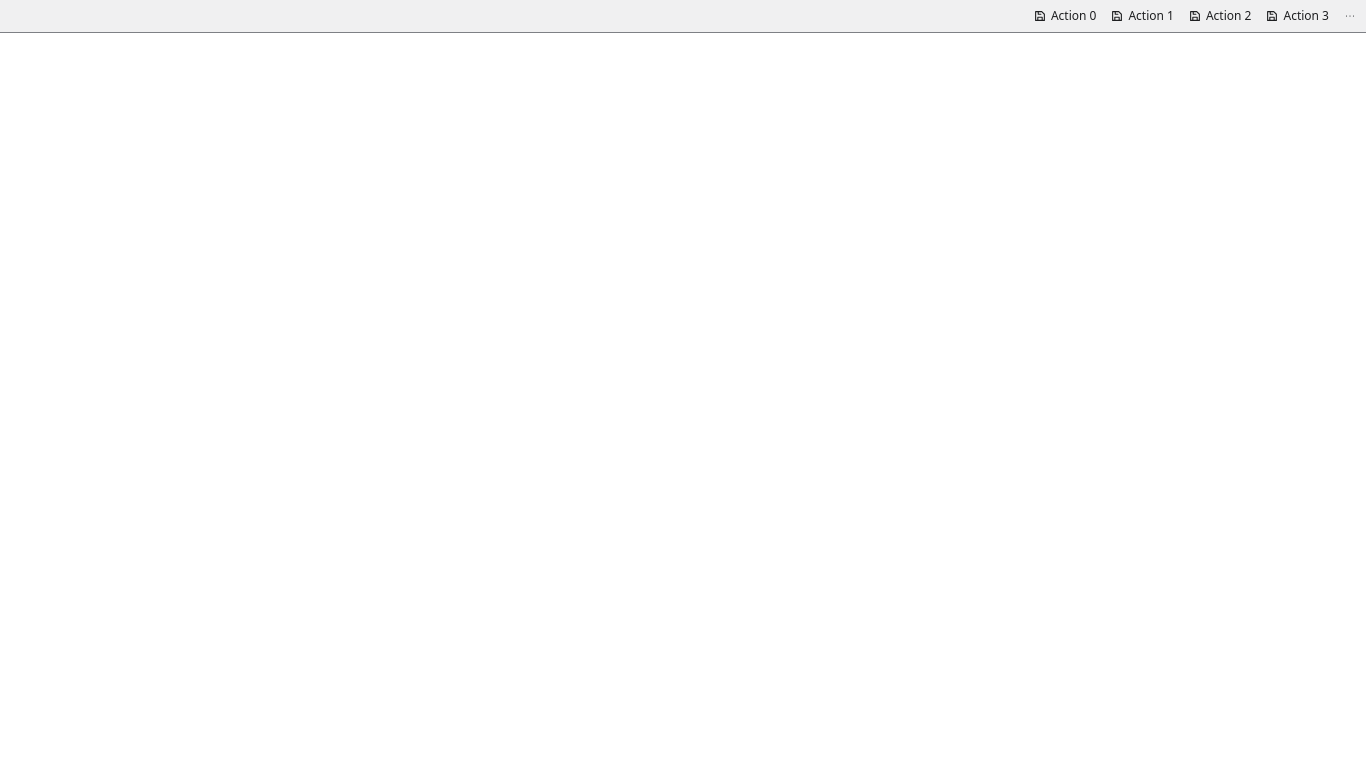
ContextBar — the overflow menu keyboard model › closes when the pointer goes down outside it
Click the button named "More actions": (1350, 16) [1338,4,1362,28]
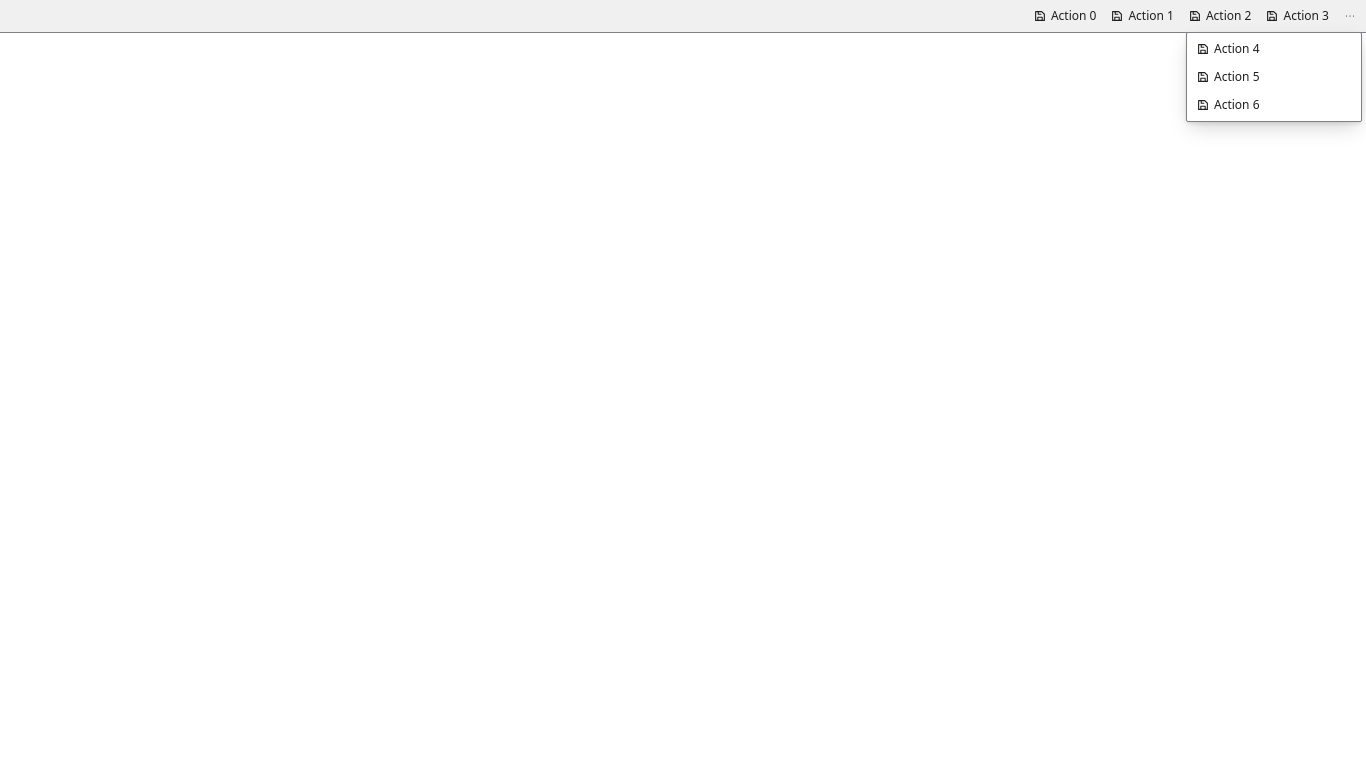
Expected: the menu is shown, [1186,32,1362,122]
Click the element that starts with "Action 0": (683, 384) [0,0,1365,767]
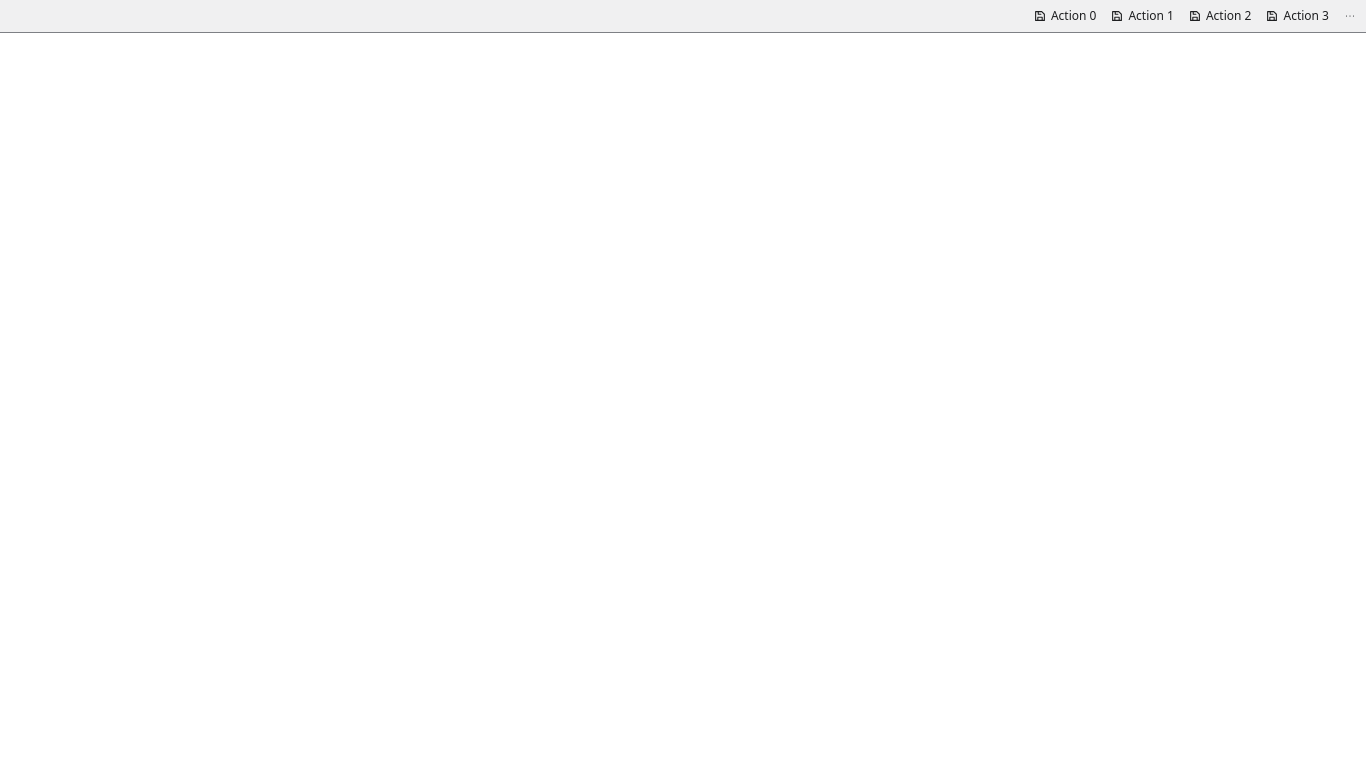
Expected: the menu is gone
